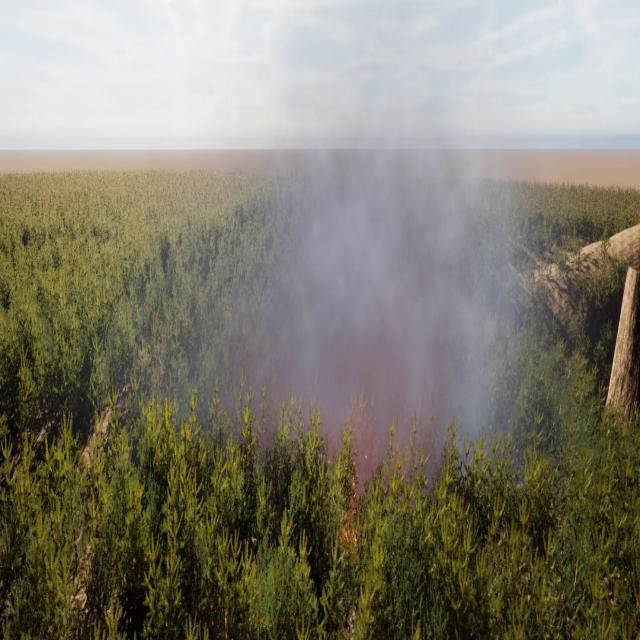smoke: (149, 22, 545, 474)
